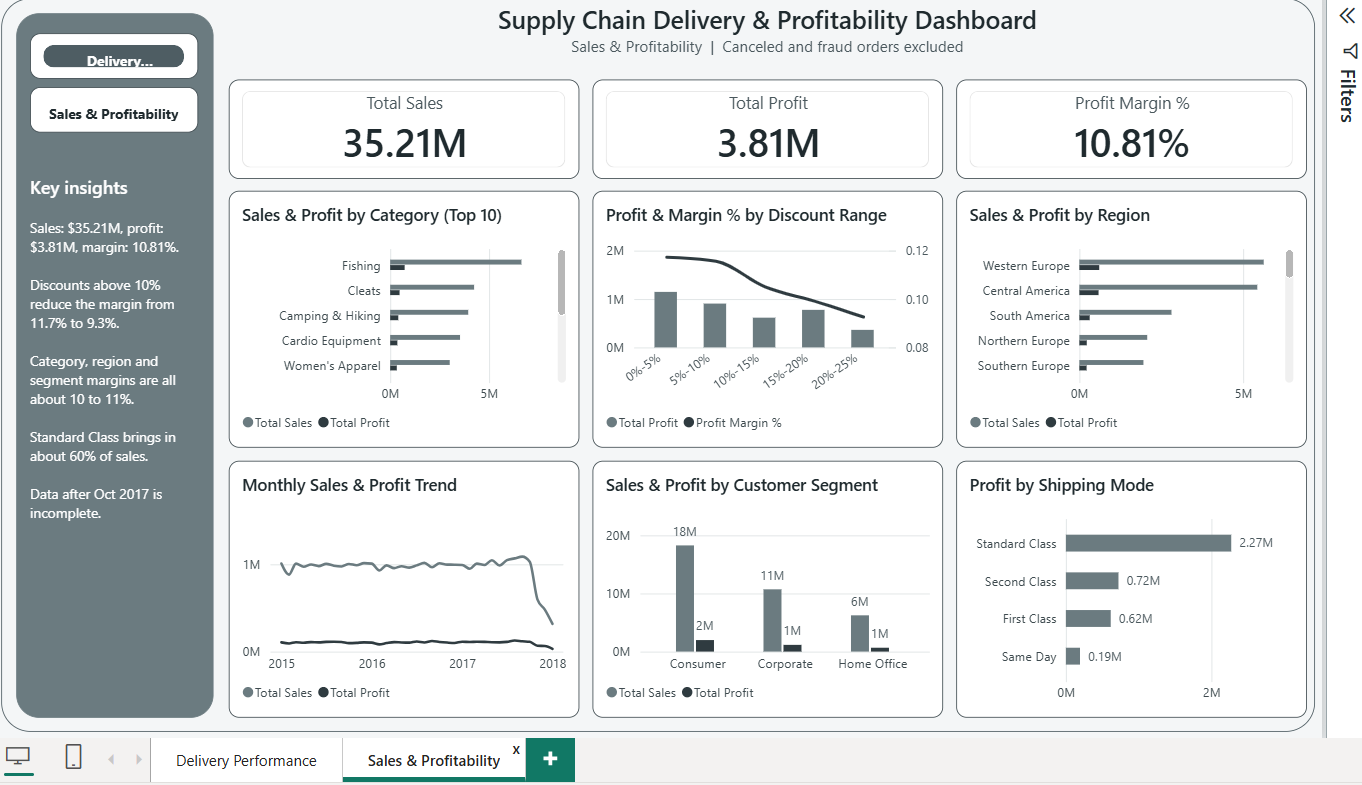

What the dashboard file says about the page in this screenshot:
{"tool":"powerbi","page":{"name":"Sales & Profitability","canvas":[1280,720],"ordinal":1},"visuals":[{"type":"textbox","box":[6,6,1268,708],"z":0},{"type":"textbox","box":[20,20,190,680],"z":100},{"type":"actionButton","box":[34,40,162,44],"z":200},{"type":"actionButton","box":[34,92,162,44],"z":210},{"type":"textbox","box":[34,176,162,510],"z":220},{"type":"textbox","box":[226,10,1040,68],"z":300},{"type":"cardVisual","fields":{"Data":["Supply_Chain_Analysis_Cleandata.Total Sales"]},"box":[226,84,338.7,96],"z":400},{"type":"cardVisual","fields":{"Data":["Supply_Chain_Analysis_Cleandata.Total Profit"]},"box":[576.7,84,338.7,96],"z":410},{"type":"cardVisual","fields":{"Data":["Supply_Chain_Analysis_Cleandata.Profit Margin %"]},"box":[927.3,84,338.7,96],"z":420},{"type":"clusteredBarChart","title":"Sales & Profit by Category (Top 10)","fields":{"Category":["Supply_Chain_Analysis_Cleandata.category_name"],"Y":["Supply_Chain_Analysis_Cleandata.Total Sales","Supply_Chain_Analysis_Cleandata.Total Profit"]},"box":[226,192,338.7,248],"z":500},{"type":"lineClusteredColumnComboChart","title":"Profit & Margin % by Discount Range","fields":{"Category":["Supply_Chain_Analysis_Cleandata.discount_range"],"Y":["Supply_Chain_Analysis_Cleandata.Total Profit"],"Y2":["Supply_Chain_Analysis_Cleandata.Profit Margin %"]},"box":[576.7,192,338.7,248],"z":510},{"type":"clusteredBarChart","title":"Sales & Profit by Region","fields":{"Category":["Supply_Chain_Analysis_Cleandata.order_region"],"Y":["Supply_Chain_Analysis_Cleandata.Total Sales","Supply_Chain_Analysis_Cleandata.Total Profit"]},"box":[927.3,192,338.7,248],"z":520},{"type":"lineChart","title":"Monthly Sales & Profit Trend","fields":{"Category":["Supply_Chain_Analysis_Cleandata.order_month"],"Y":["Supply_Chain_Analysis_Cleandata.Total Sales","Supply_Chain_Analysis_Cleandata.Total Profit"]},"box":[226,452,338.7,248],"z":600},{"type":"clusteredColumnChart","title":"Sales & Profit by Customer Segment","fields":{"Category":["Supply_Chain_Analysis_Cleandata.customer_segment"],"Y":["Supply_Chain_Analysis_Cleandata.Total Sales","Supply_Chain_Analysis_Cleandata.Total Profit"]},"box":[576.7,452,338.7,248],"z":610},{"type":"clusteredBarChart","title":"Profit by Shipping Mode","fields":{"Category":["Supply_Chain_Analysis_Cleandata.shipping_mode"],"Y":["Supply_Chain_Analysis_Cleandata.Total Profit"]},"box":[927.3,452,338.7,248],"z":620}]}

Visuals, with their boxes on the page's 1280x720 design canvas (x1, y1, x2, y2). These are canvas units, not pixel positions in the 1362x785 screenshot, which may show the page scaled, cropped or inside an application window:
textbox: 6:6:1274:714
textbox: 20:20:210:700
actionButton: 34:40:196:84
actionButton: 34:92:196:136
textbox: 34:176:196:686
textbox: 226:10:1266:78
cardVisual - Supply_Chain_Analysis_Cleandata.Total Sales: 226:84:565:180
cardVisual - Supply_Chain_Analysis_Cleandata.Total Profit: 577:84:915:180
cardVisual - Supply_Chain_Analysis_Cleandata.Profit Margin %: 927:84:1266:180
"Sales & Profit by Category (Top 10)" clusteredBarChart: 226:192:565:440
"Profit & Margin % by Discount Range" lineClusteredColumnComboChart: 577:192:915:440
"Sales & Profit by Region" clusteredBarChart: 927:192:1266:440
"Monthly Sales & Profit Trend" lineChart: 226:452:565:700
"Sales & Profit by Customer Segment" clusteredColumnChart: 577:452:915:700
"Profit by Shipping Mode" clusteredBarChart: 927:452:1266:700
